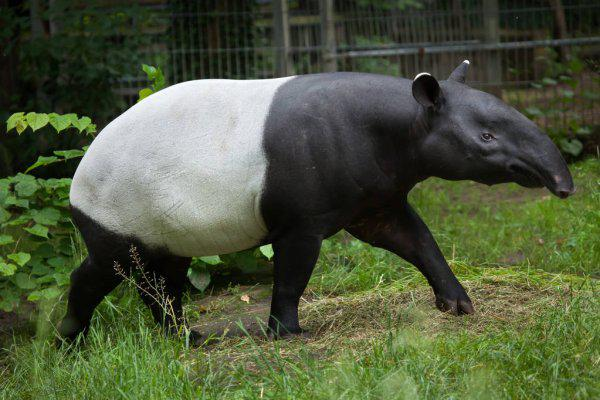Anta: (47, 50, 577, 355)
